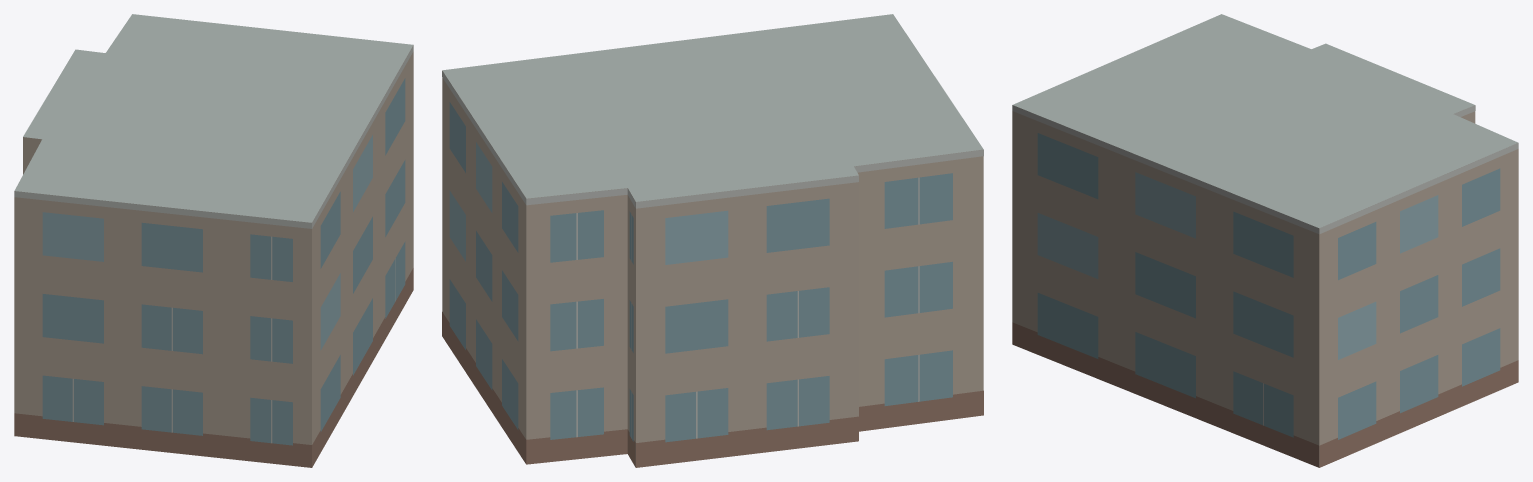
The model's file is survey-upis-32529206.glb.
3 renders of one model, left to right at view 1: azimuth 30°, elevation 25°; view 2: azimuth 150°, elevation 25°; view 3: azimuth 270°, elevation 25°, orthographic. The views are drawn at different scales.
Visible parts, largest first — view 1: survey-upis-32529206.tmp; view 2: survey-upis-32529206.tmp; view 3: survey-upis-32529206.tmp.
Part boxes in pixels (<box>): survey-upis-32529206.tmp: <box>14,14,413,467</box>; survey-upis-32529206.tmp: <box>442,14,983,467</box>; survey-upis-32529206.tmp: <box>1012,14,1518,467</box>.
Bounding box in the file's own units: 18.62 × 9.7 × 18.58.
